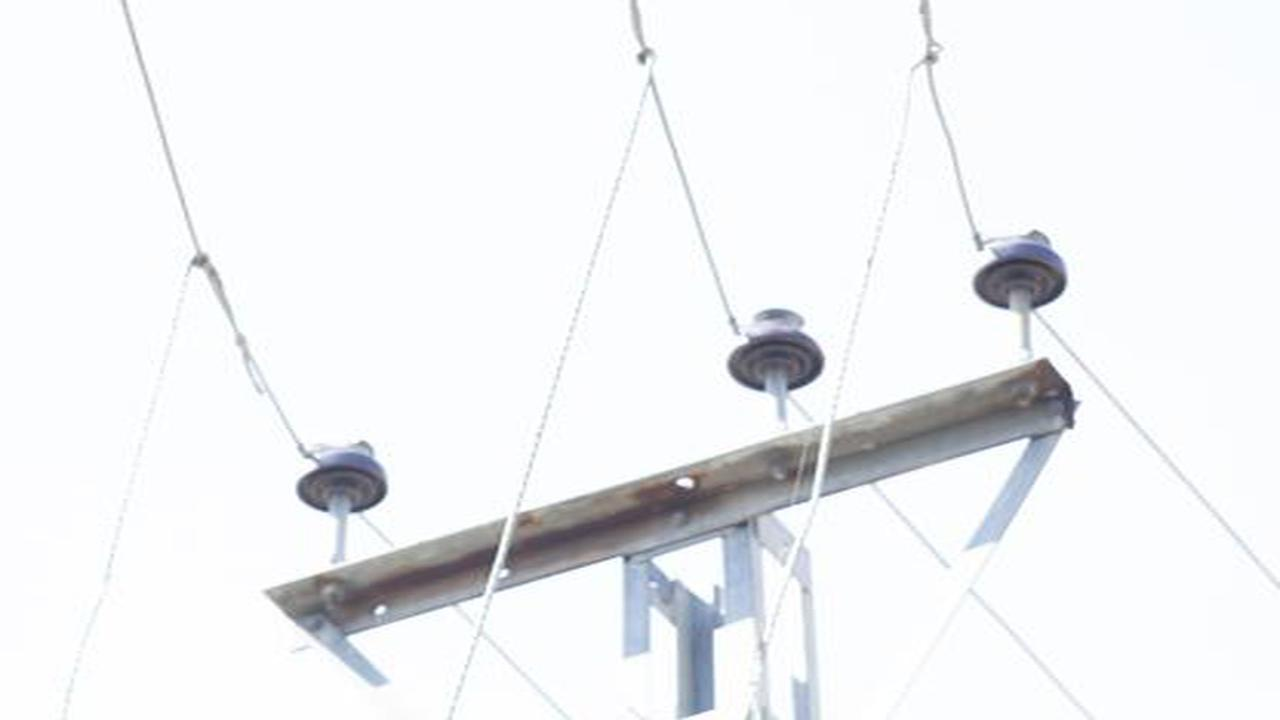insulator_pin: (964, 226, 1070, 315), (722, 307, 827, 394), (291, 436, 389, 512)
